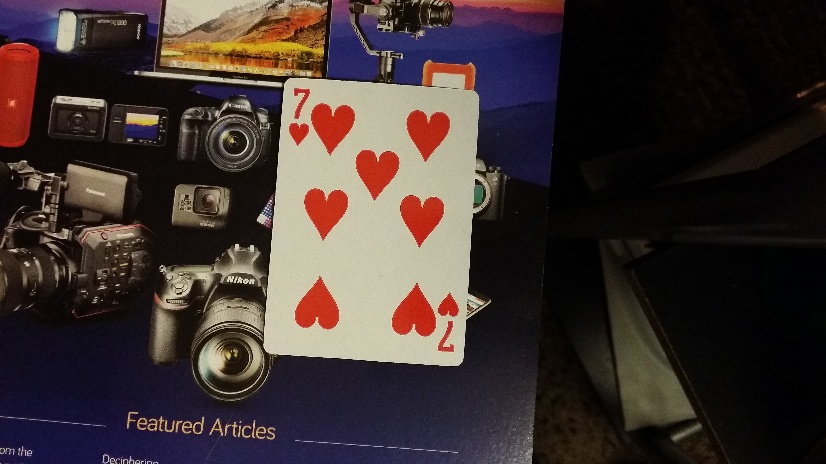H7: (288, 84, 313, 144), (436, 284, 457, 354)
